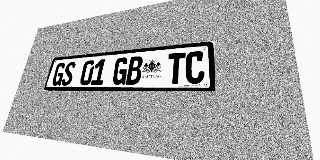0: (79, 60, 95, 85)
1: (90, 59, 107, 85)
B: (125, 56, 143, 85)
C: (185, 51, 205, 84)
G: (112, 57, 129, 85), (51, 62, 66, 86)
S: (61, 61, 76, 86)
T: (166, 52, 186, 84)
